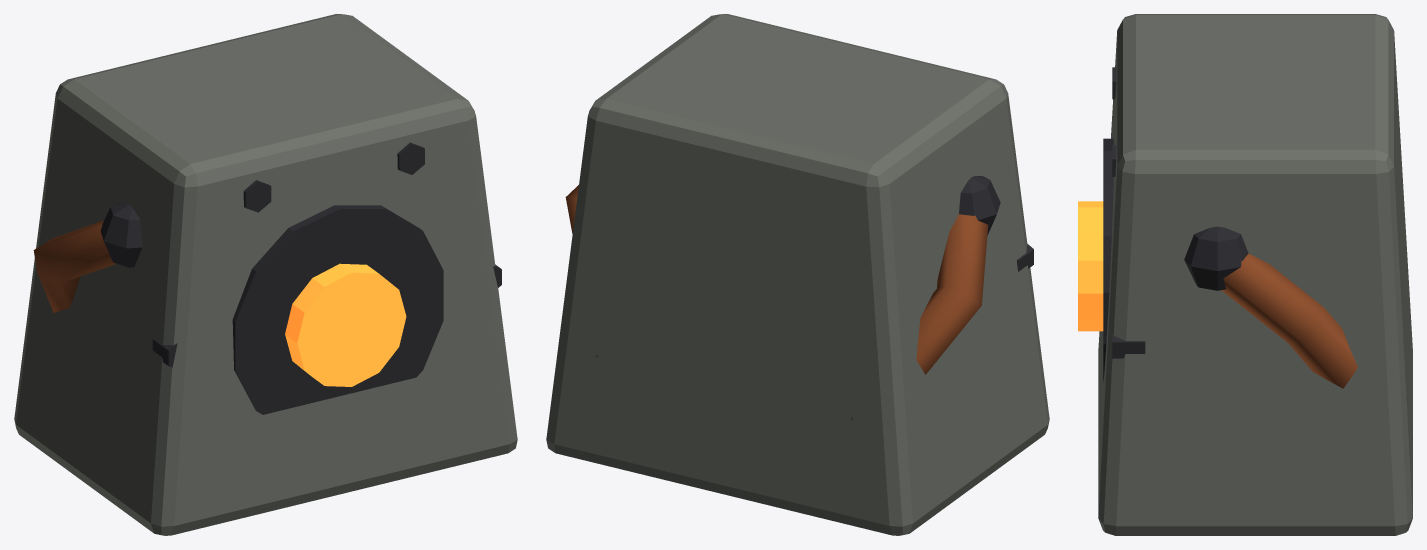
File: co_ember.glb
The picture shows the model from 3 angles, left to right: view 1: azimuth 30°, elevation 25°; view 2: azimuth 150°, elevation 25°; view 3: azimuth 270°, elevation 25°; orthographic projection. The views are drawn at different scales.
Visible parts, largest first — view 1: co_ember; view 2: co_ember; view 3: co_ember.
Boxes of the visible parts, x1=… form: co_ember: x1=14, y1=14, x2=517, y2=535; co_ember: x1=546, y1=14, x2=1049, y2=535; co_ember: x1=1078, y1=14, x2=1412, y2=535.
Size of the model in its own units: 0.167 by 0.1376 by 0.1135.
